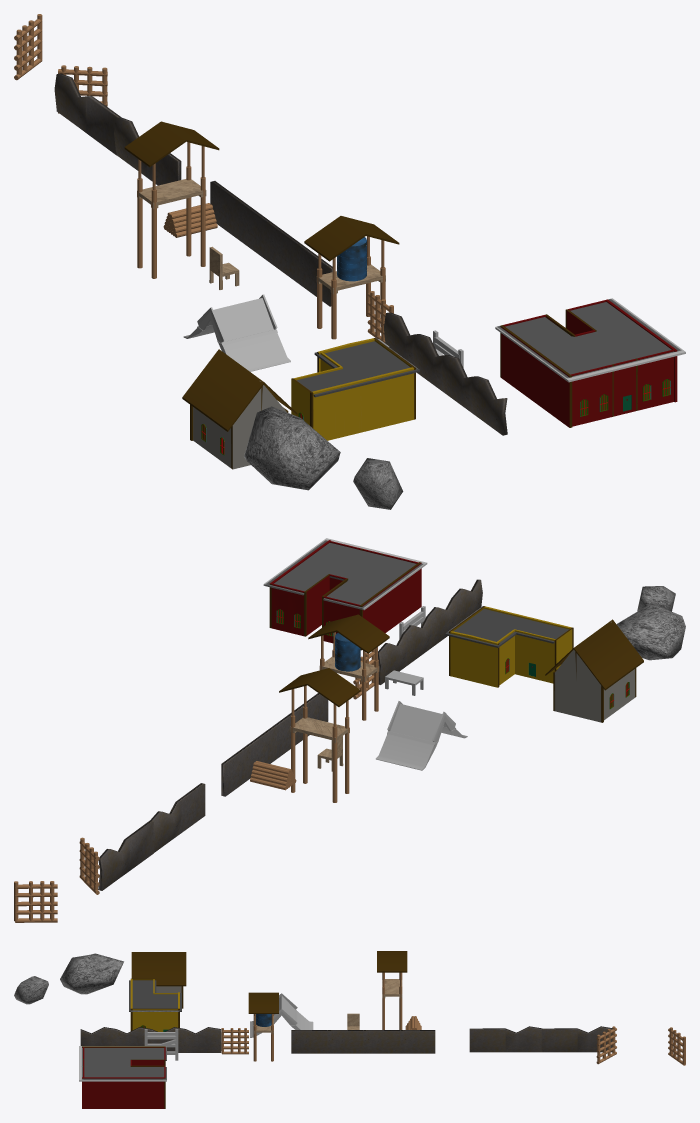
The model's file is uv set 1.fbx.
The picture shows the model from 3 angles, top to bottom: view 1: azimuth 30°, elevation 25°; view 2: azimuth 150°, elevation 25°; view 3: azimuth 270°, elevation 25°; orthographic projection. The views are drawn at different scales.
Visible parts, largest first — view 1: house_6, house_7, house_5, things1:sniper_hut, rock_2, things1:water_hut, things1:normal_barricade, damage_barricade1:damage_barricadegroup1, tent, things1:consecutive_wall, things1:door_open, rock_1 (+2 smaller); view 2: house_6, house_7, house_5, things1:sniper_hut, things1:consecutive_wall, damage_barricade1:damage_barricadegroup1, things1:water_hut, tent, things1:normal_barricade, rock_2, things1:door_open, things1:logs (+1 smaller); view 3: house_6, things1:normal_barricade, things1:consecutive_wall, damage_barricade1:damage_barricadegroup1, house_7, house_5, rock_2, things1:sniper_hut, things1:water_hut, things1:door_open, tent, rock_1 (+2 smaller).
Boxes of the visible parts, x1,y1,x2,y2 form: house_6: [495, 298, 685, 427]; house_7: [291, 338, 419, 440]; house_5: [182, 349, 297, 469]; things1:sniper_hut: [124, 121, 219, 278]; rock_2: [243, 406, 340, 490]; things1:water_hut: [304, 216, 399, 339]; things1:normal_barricade: [210, 181, 332, 306]; damage_barricade1:damage_barricadegroup1: [384, 312, 507, 435]; tent: [183, 294, 290, 371]; things1:consecutive_wall: [54, 73, 181, 185]; things1:door_open: [14, 14, 107, 113]; rock_1: [353, 458, 403, 509]; house_6: [263, 538, 427, 650]; house_7: [445, 606, 573, 687]; house_5: [545, 619, 643, 722]; things1:sniper_hut: [279, 668, 360, 802]; things1:consecutive_wall: [98, 783, 205, 890]; damage_barricade1:damage_barricadegroup1: [378, 579, 482, 684]; things1:water_hut: [308, 614, 389, 720]; tent: [375, 701, 467, 770]; things1:normal_barricade: [221, 693, 328, 796]; rock_2: [617, 604, 685, 660]; things1:door_open: [14, 837, 99, 922]; things1:logs: [250, 761, 296, 790]; house_6: [79, 1046, 166, 1108]; things1:normal_barricade: [291, 1030, 435, 1053]; things1:consecutive_wall: [469, 1026, 612, 1052]; damage_barricade1:damage_barricadegroup1: [80, 1027, 220, 1052]; house_7: [129, 978, 181, 1031]; house_5: [131, 952, 186, 1008]; rock_2: [60, 953, 123, 994]; things1:sniper_hut: [377, 951, 407, 1029]; things1:water_hut: [248, 992, 278, 1061]; things1:door_open: [596, 1026, 685, 1065]; tent: [250, 993, 313, 1037]; rock_1: [14, 976, 48, 1004].
Bounding box in the file's own units: 51.28 × 16.94 × 118.
